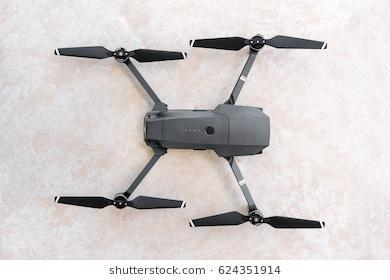drone: (51, 22, 338, 232)
